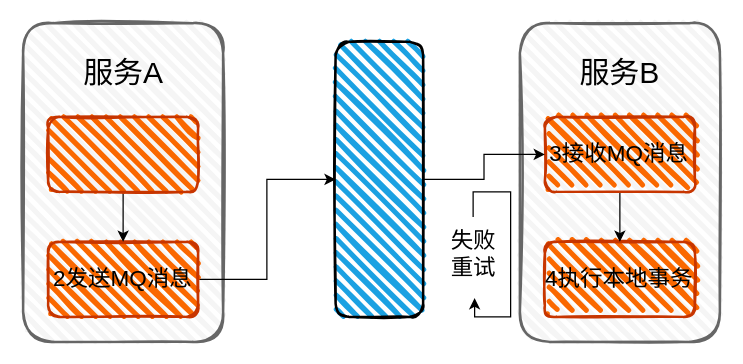
This 743x364 diagram has some shape labels left out. Each missing label, with the centre of its shape:
"1执行本地事务" goes at (x=122, y=153).
"MQ" goes at (x=379, y=179).
